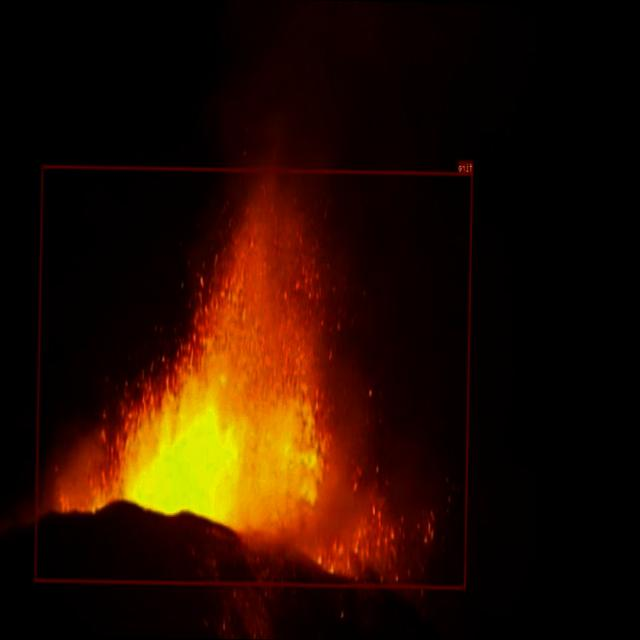fire: (35, 164, 472, 588)
